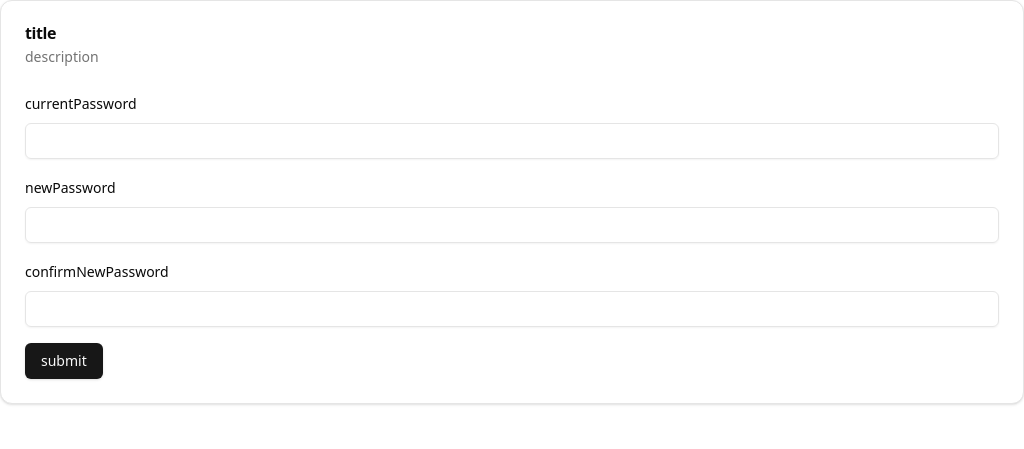
Test: PasswordForm › shows validation error when passwords do not match
Type "OldPass1!" into the password field labelled "currentPassword" at (512, 141), box x1=25 y1=123 x2=999 y2=159
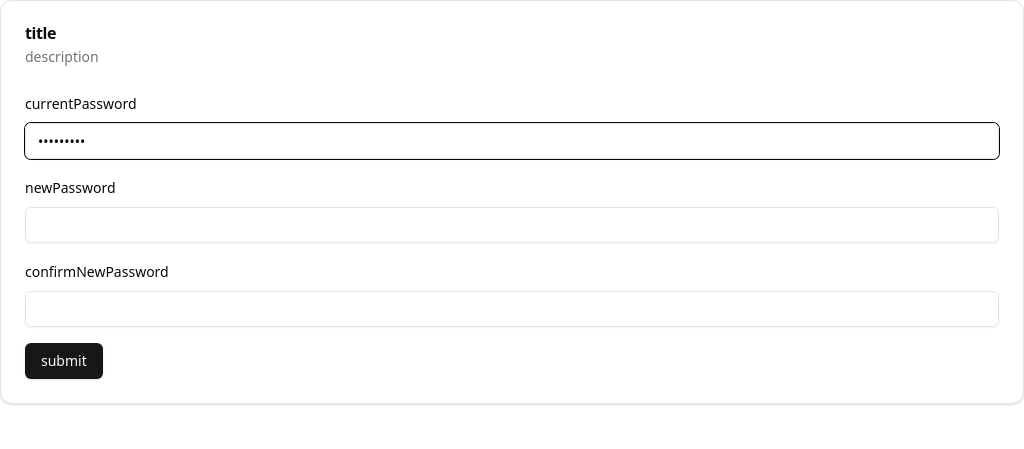
Type "NewPass1!" into the password field labelled "newPassword" at (512, 225), box x1=25 y1=207 x2=999 y2=243
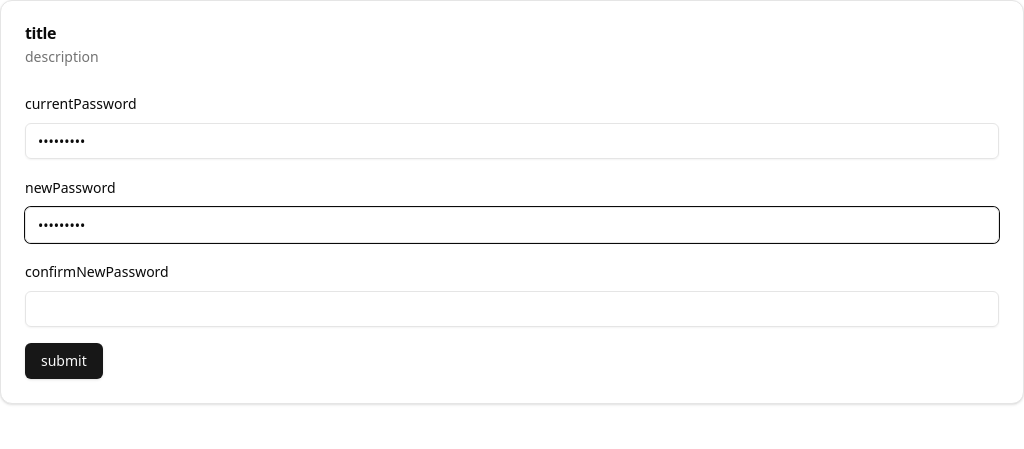
Type "DifferentPass1!" into the password field labelled "confirmNewPassword" at (512, 309), box x1=25 y1=291 x2=999 y2=327
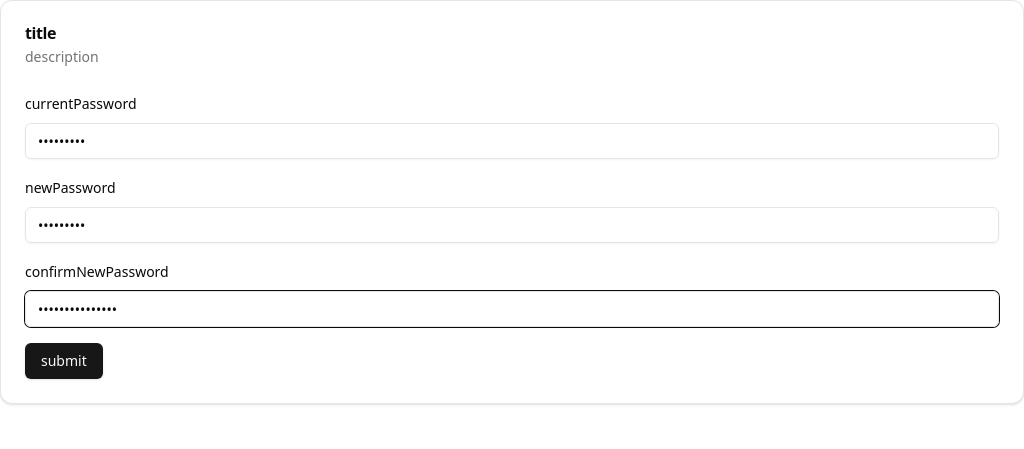
Click the button "submit" at (64, 361), box x1=25 y1=343 x2=103 y2=379
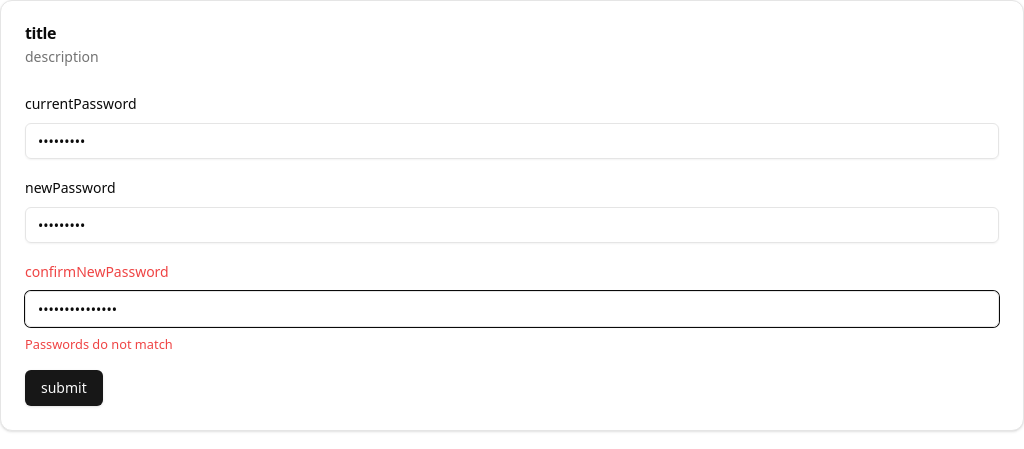
Now the text "Passwords do not match" is shown, box x1=25 y1=335 x2=173 y2=353
